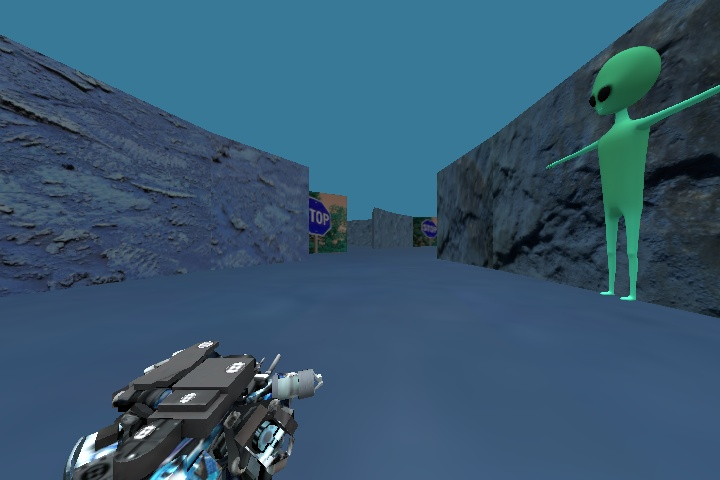green_alien: (537, 44, 720, 326)
stop_sign: (303, 188, 337, 241), (415, 215, 442, 242)
